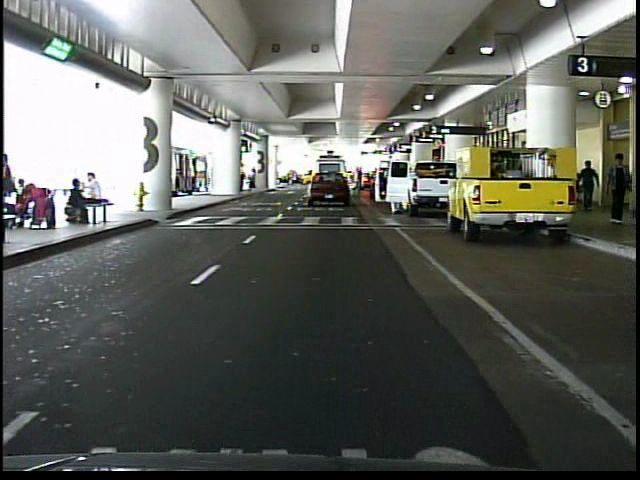person: (603, 149, 626, 226), (575, 156, 601, 212), (248, 167, 260, 192)
